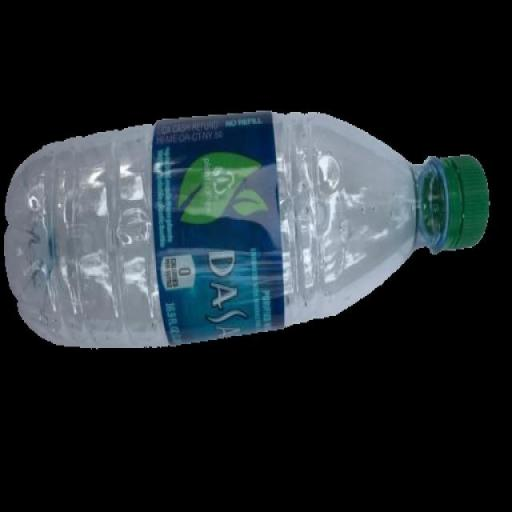plastic: (7, 106, 487, 344)
